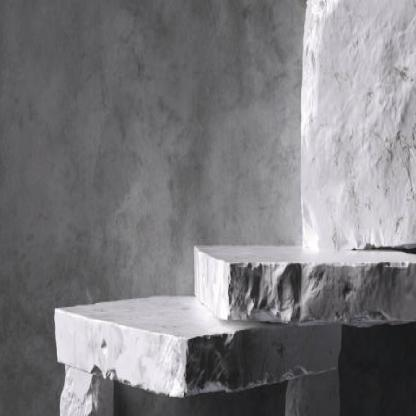Metamorphic_Marble: (292, 0, 415, 246), (41, 313, 343, 394), (186, 240, 416, 326), (54, 368, 117, 414), (288, 375, 342, 415)
